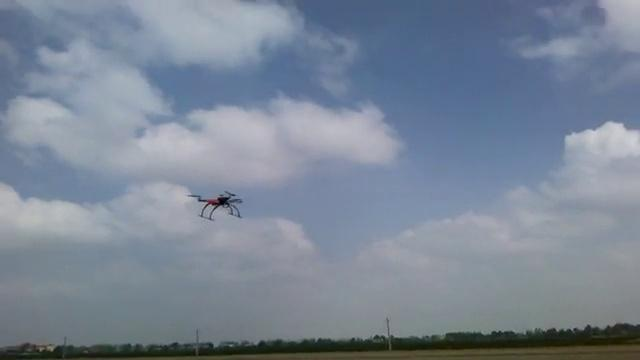drone: (185, 188, 242, 221)
